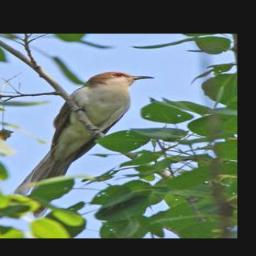Cuckoo: (8, 70, 156, 218)
